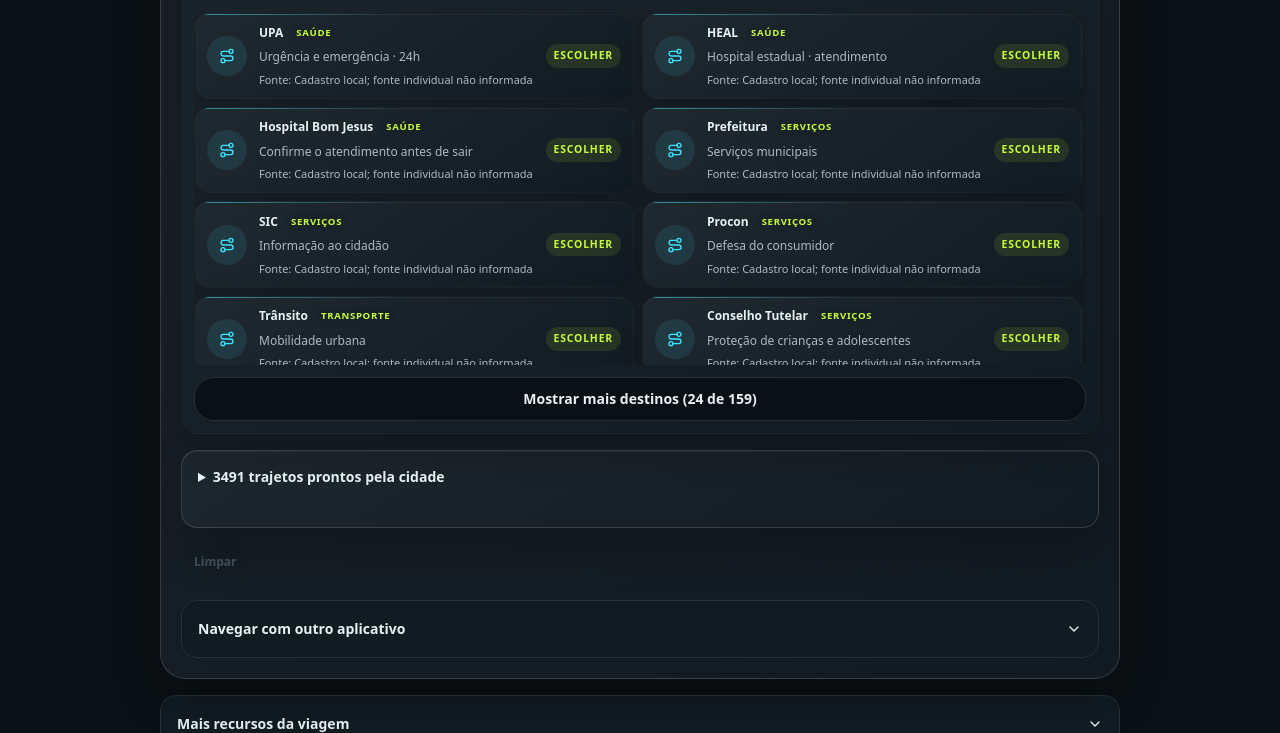
Test: renders planner destination cards progressively and searches every destination
(page scrolled)
Click the button "Mostrar mais destinos (24 de 159)". click: (640, 399)
box: [194, 377, 1086, 421]
(page scrolled)
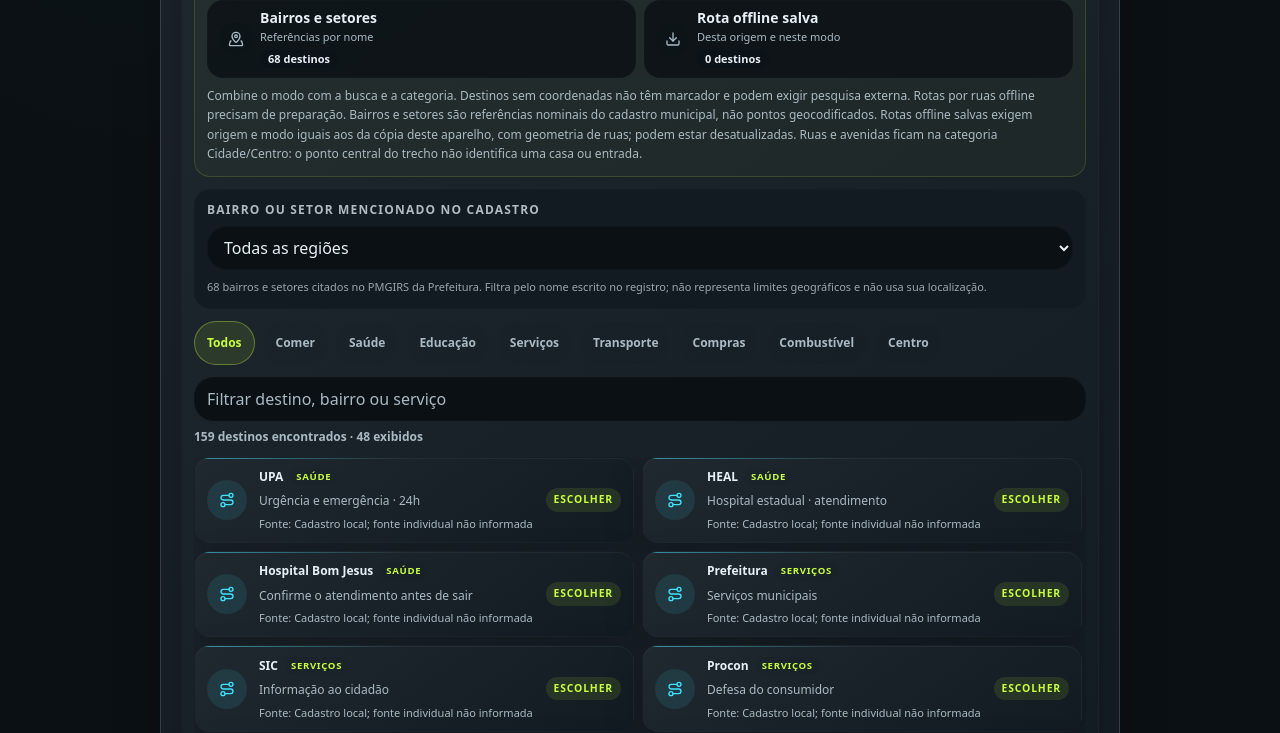
Type "zzzx-destino-inexistente-2026" into the field named "Filtrar todos os destinos disponíveis". click: (640, 399)
box: [194, 377, 1086, 421]
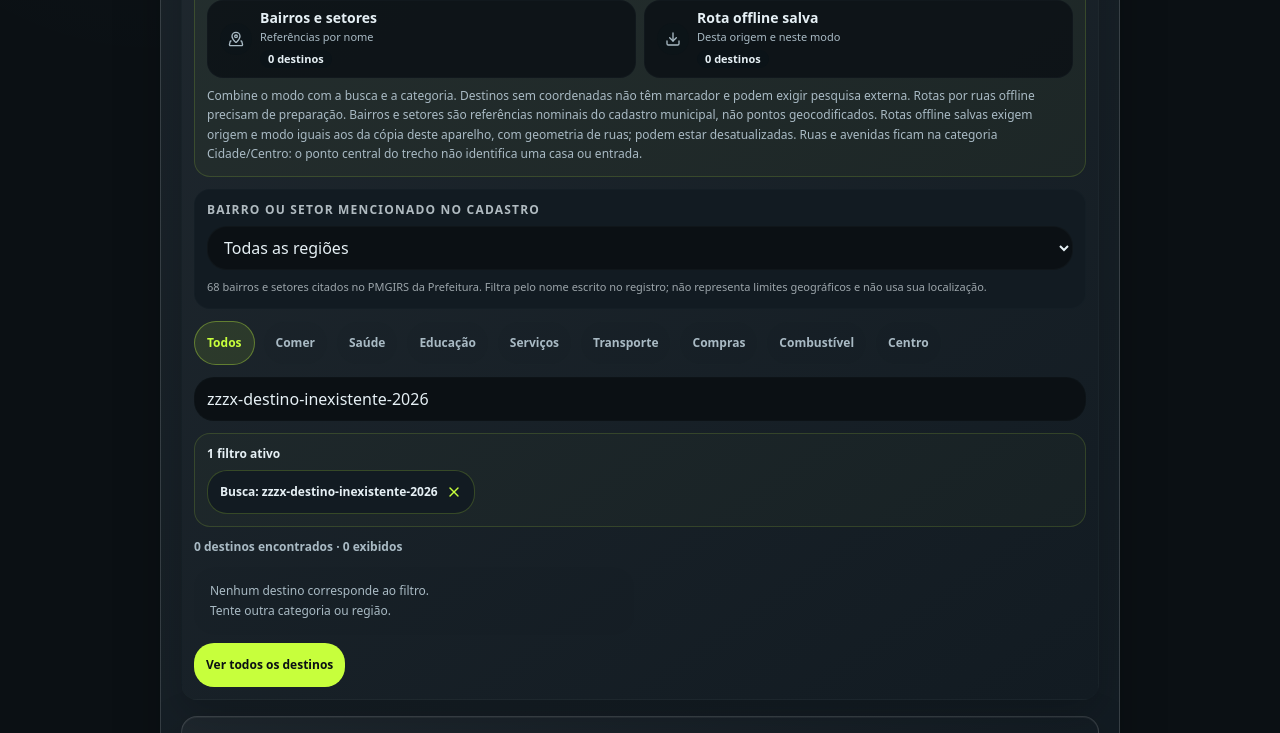
Expected: the text "Nenhum destino corresponde ao filtro." is shown, [210, 582, 429, 599]
Replace the text in the field named "Filtrar todos os destinos disponíveis" with "HEAL". click: (640, 399)
box: [194, 377, 1086, 421]
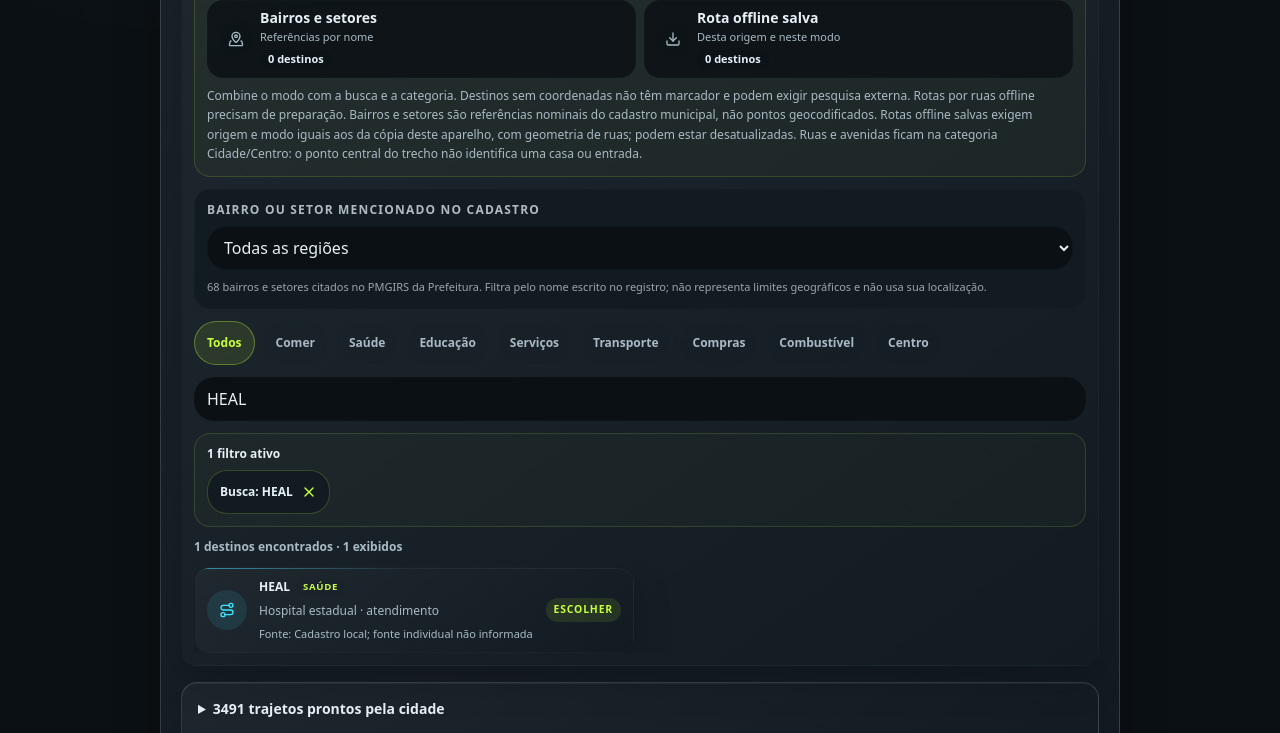
Expected: the button "Mostrar mais destinos" is not shown
Expected: the button that starts with "HEAL" is shown, [194, 567, 634, 653]
